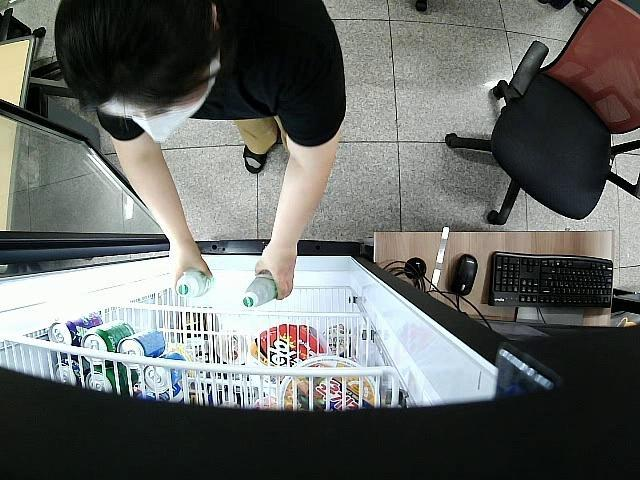18_trevi: (240, 270, 280, 308), (174, 270, 214, 300)
